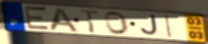A: (48, 7, 81, 34)
E: (24, 5, 52, 33)
I: (164, 14, 173, 39)
J: (139, 14, 160, 37)
O: (104, 11, 131, 36)
T: (79, 9, 101, 34)
